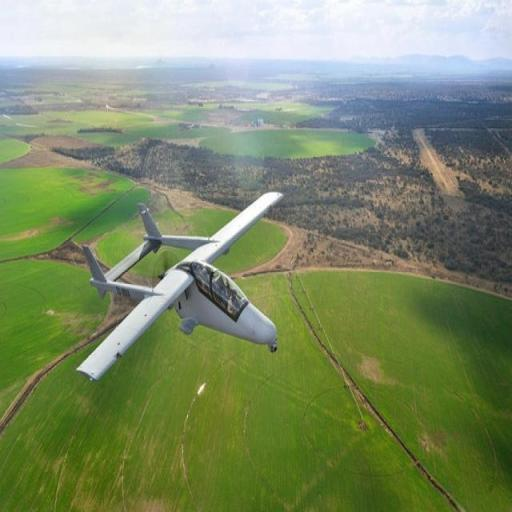uav: (65, 183, 288, 383)
